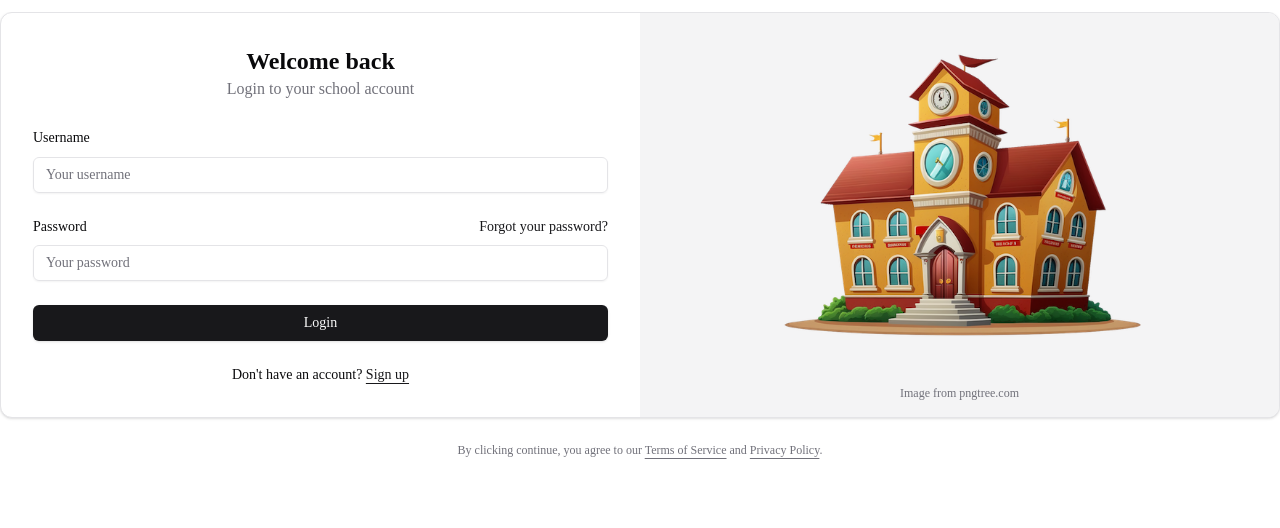
Test: LoginForm › Form Validation › shows validation errors when submitting empty form
The width and height of the screenshot is (1280, 528).
// Submit without filling any fields
Click the button named "Submit button": (320, 323) [33,305,608,341]
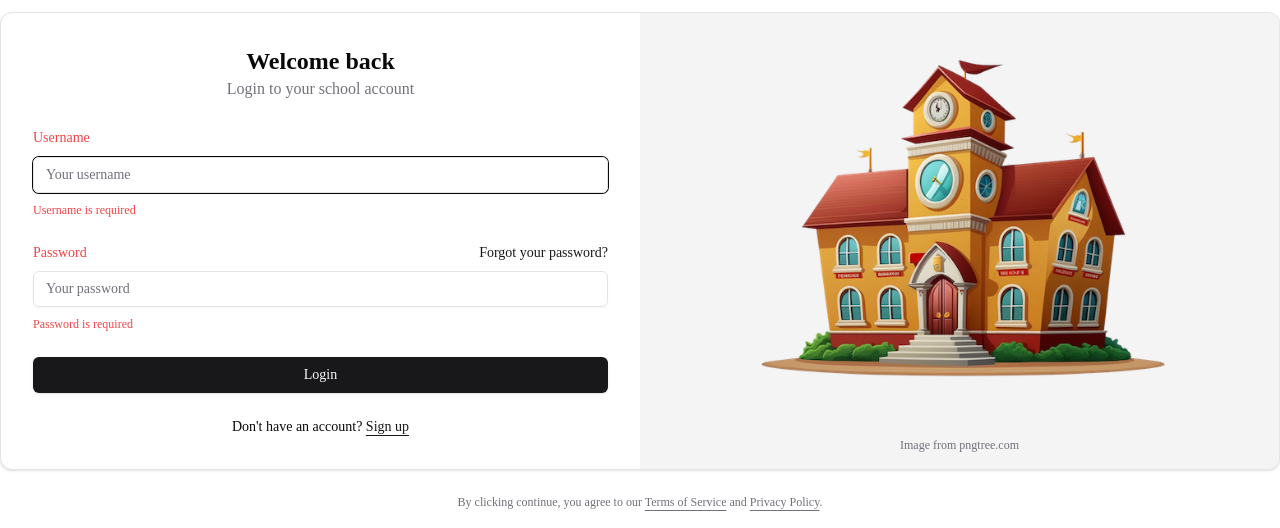
Result: the text "Username is required" is shown at [33,203,136,217]
Result: the text "Password is required" is shown at [33,317,133,331]
